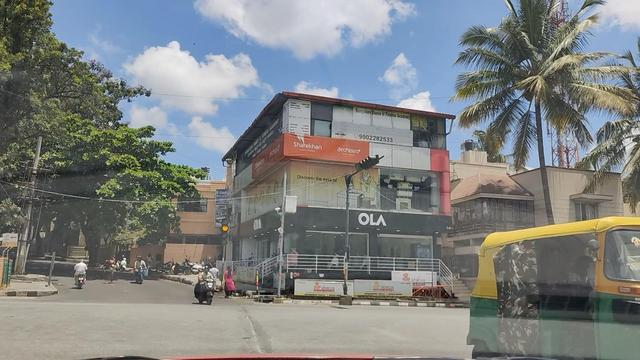RoadDamages: (234, 302, 280, 360)
